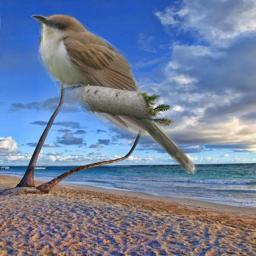Cuckoo: (31, 14, 197, 175)
